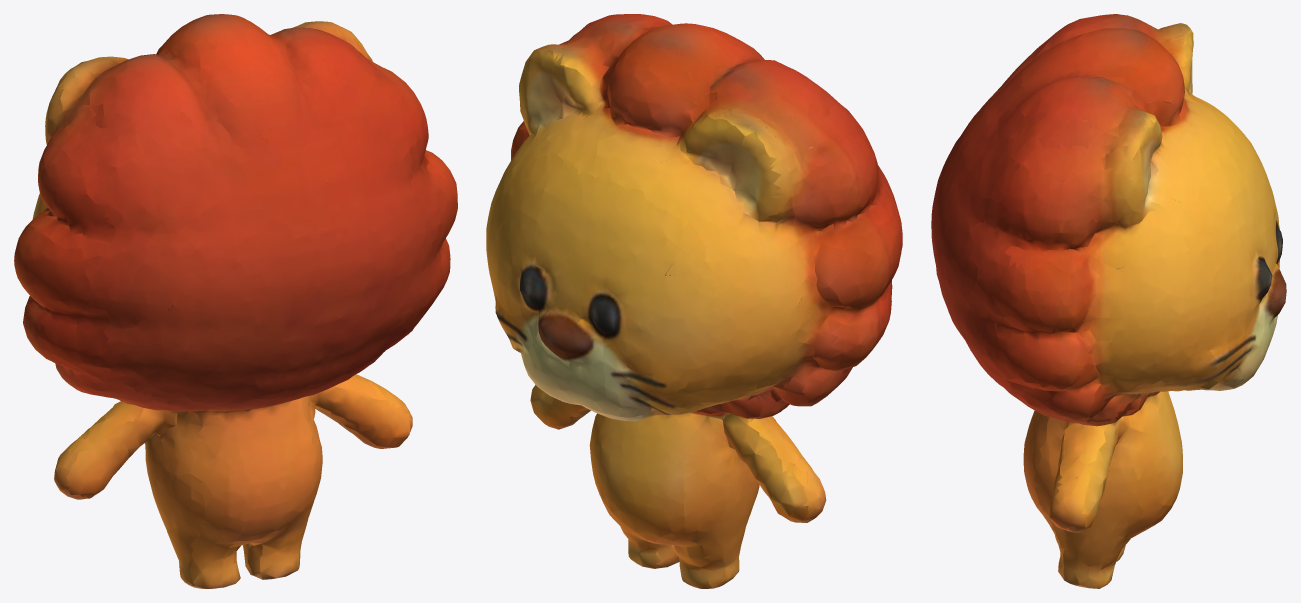
The picture shows the model from 3 angles, left to right: view 1: azimuth 30°, elevation 25°; view 2: azimuth 150°, elevation 25°; view 3: azimuth 270°, elevation 25°; orthographic projection. The views are drawn at different scales.
Parts seen in each view (by area): view 1: world; view 2: world; view 3: world.
Part boxes in pixels (left/top/right/bottom): world: left=14, top=14, right=457, bottom=588; world: left=486, top=14, right=902, bottom=588; world: left=931, top=14, right=1286, bottom=588.
Bounding box in the file's own units: 0.722 × 0.9511 × 0.5758.
Materials: 1 (1 with a texture image).
